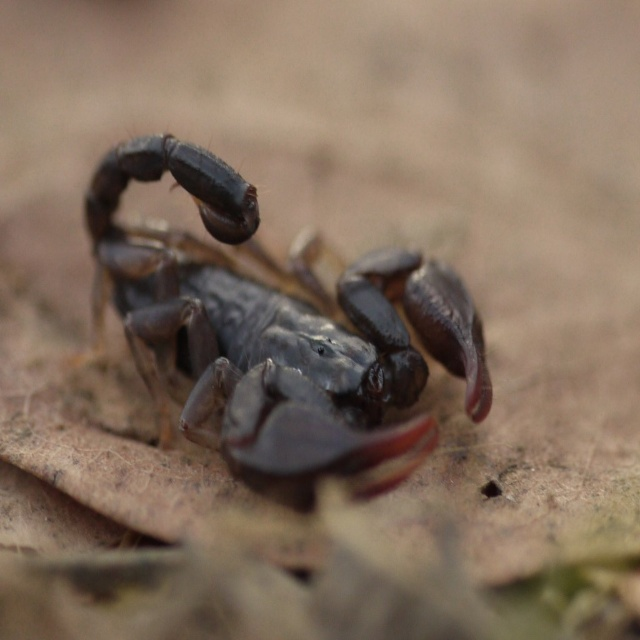Scorpion: (83, 132, 493, 514)
